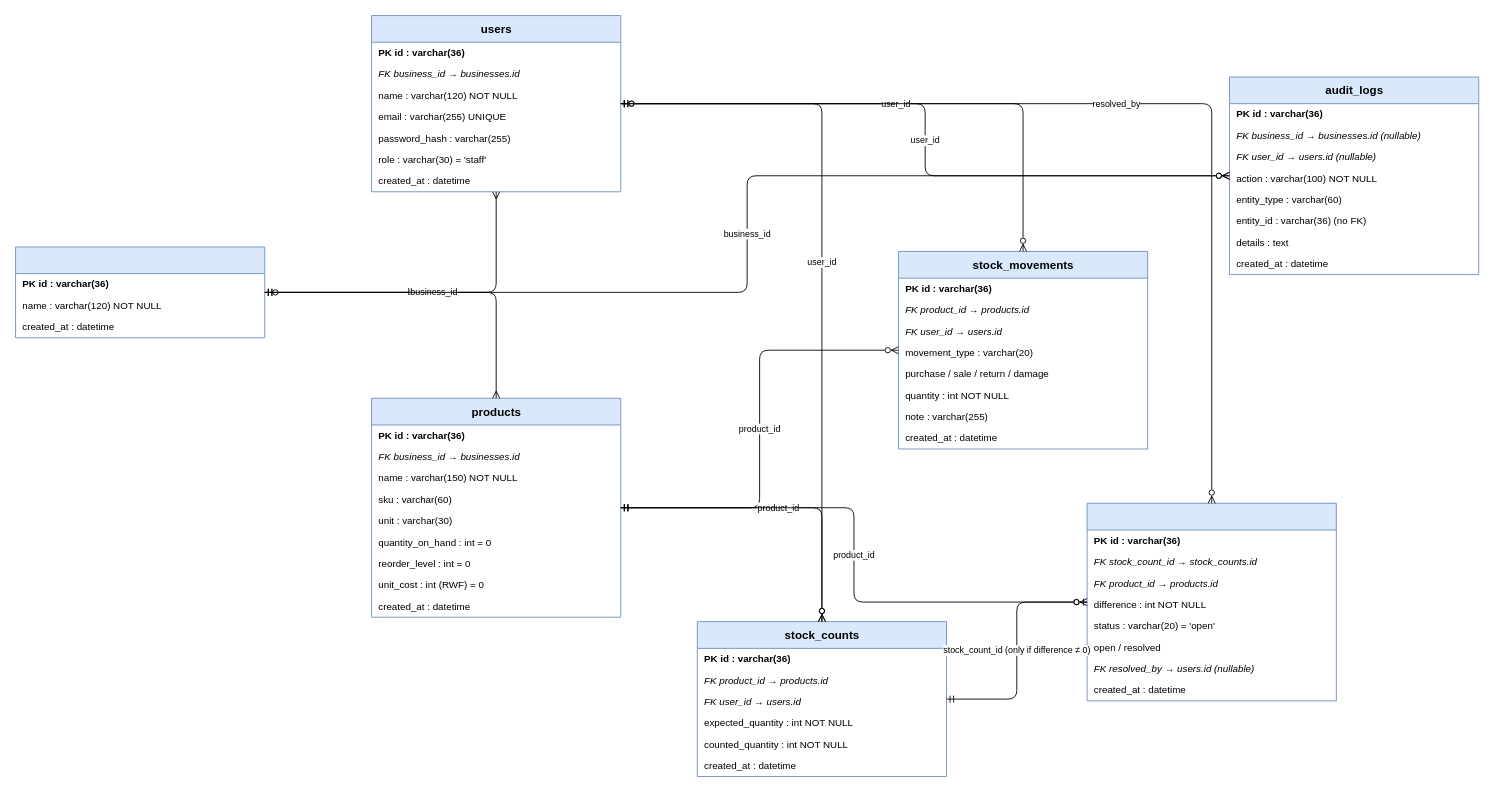
This 1494x792 diagram has some shape labels left out. The shapes that lost their labels are listed below. From the top down, each one's box as (x1, y1, x2, y2) in pixels, then its label:
(15, 246, 265, 338): businesses
(1086, 502, 1336, 701): discrepancies
